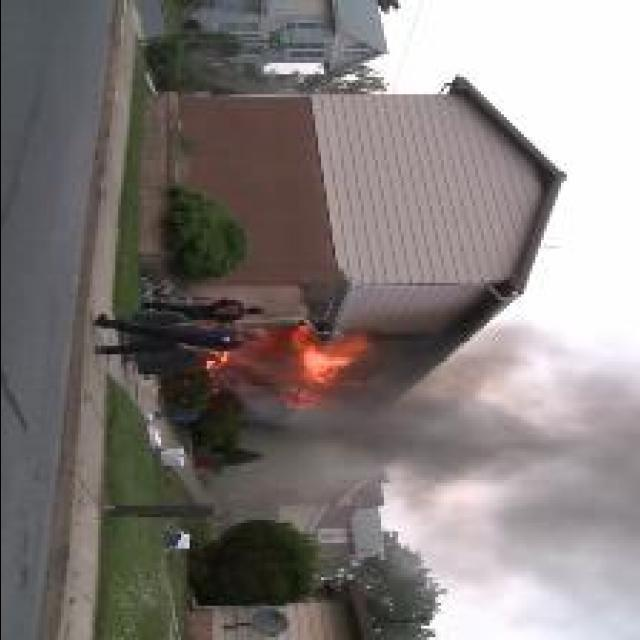Fire: (281, 324, 373, 407)
